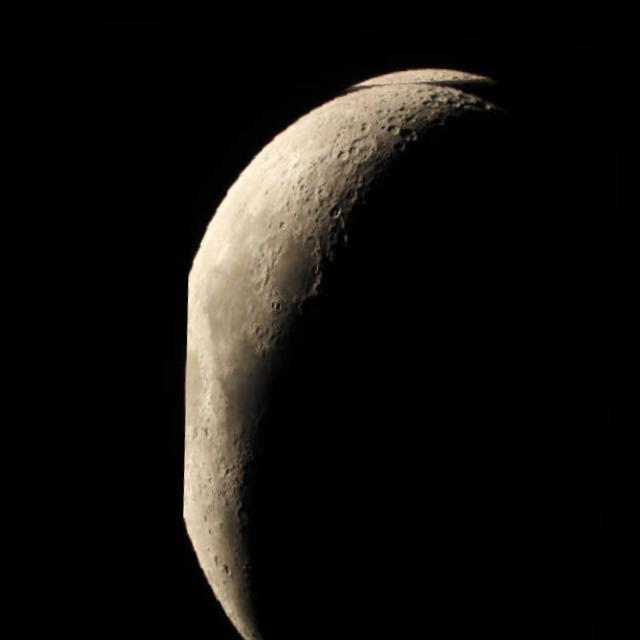moon: (158, 37, 638, 640)
